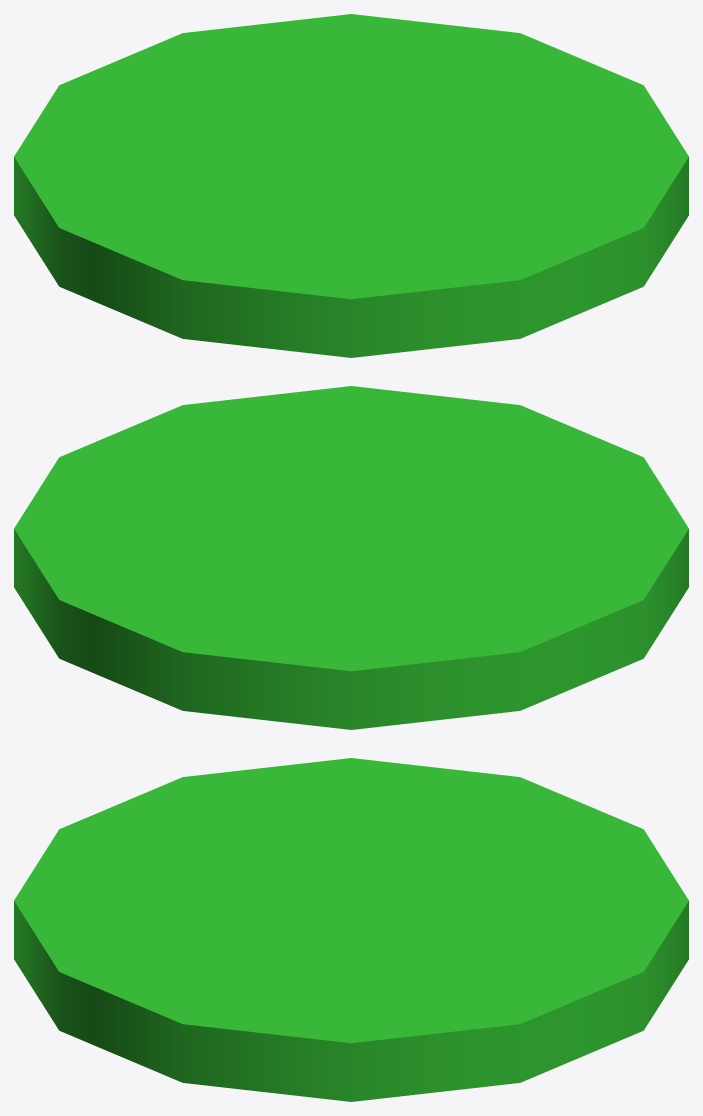
File: Medal_Collider.obj
3 renders of one model, top to bottom at view 1: azimuth 30°, elevation 25°; view 2: azimuth 150°, elevation 25°; view 3: azimuth 270°, elevation 25°, orthographic.
Parts seen in each view (by area): view 1: Medal_Collider; view 2: Medal_Collider; view 3: Medal_Collider.
Part boxes in pixels (x1,y1,x2,y2): Medal_Collider: (14,14,688,357); Medal_Collider: (14,386,688,729); Medal_Collider: (14,758,688,1101).
Size of the model in its own units: 0.025 by 0.0024 by 0.025.
